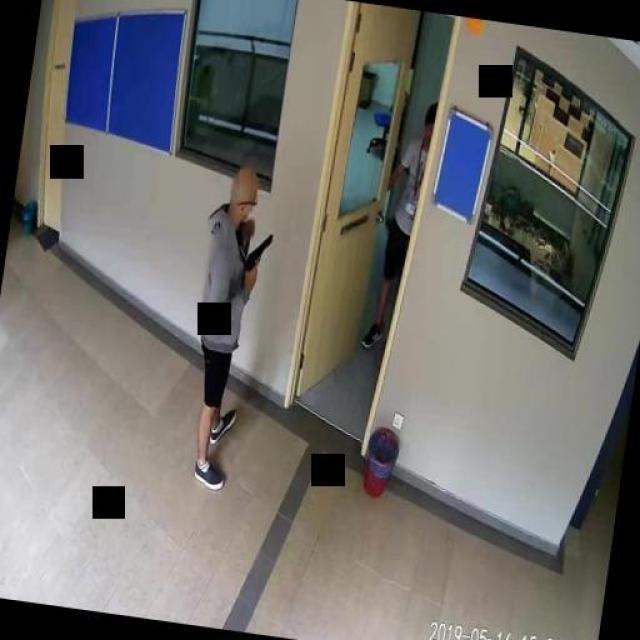gun: (245, 230, 273, 280)
